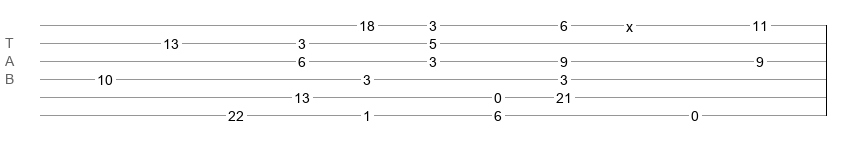0: (494, 90, 502, 100), (691, 108, 699, 118)
1: (363, 108, 371, 118)
10: (97, 72, 113, 82)
11: (752, 18, 768, 28)
13: (163, 36, 179, 46), (294, 90, 310, 100)
18: (359, 18, 375, 28)
21: (556, 90, 572, 100)
22: (228, 108, 244, 118)
3: (298, 36, 306, 46), (363, 72, 371, 82), (429, 54, 437, 64), (429, 18, 437, 28), (560, 72, 568, 82)
5: (429, 36, 437, 46)
6: (298, 54, 306, 64), (494, 108, 502, 118), (560, 18, 568, 28)
9: (560, 54, 568, 64), (756, 54, 764, 64)
x: (626, 19, 633, 27)
